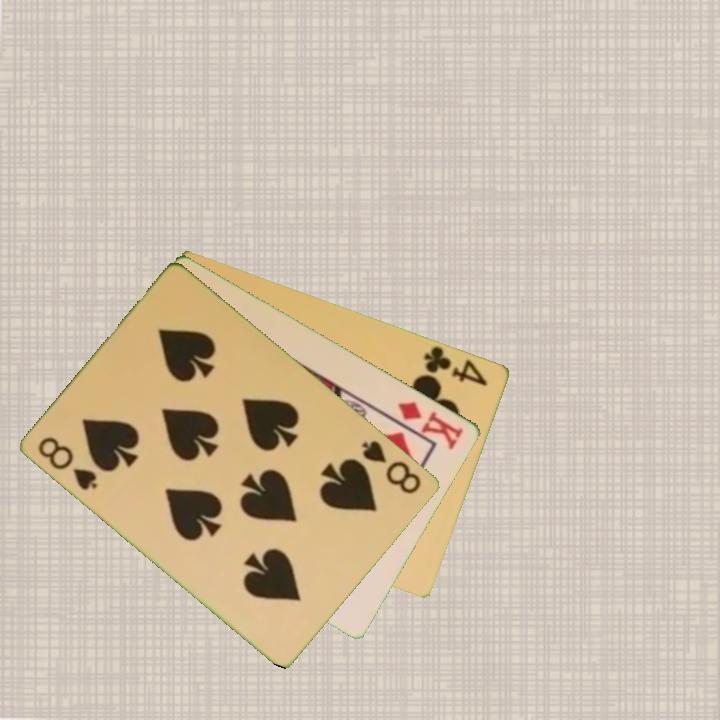4c: (420, 342, 491, 389)
8s: (358, 436, 425, 497), (35, 433, 102, 493)
Kd: (394, 397, 467, 452)
